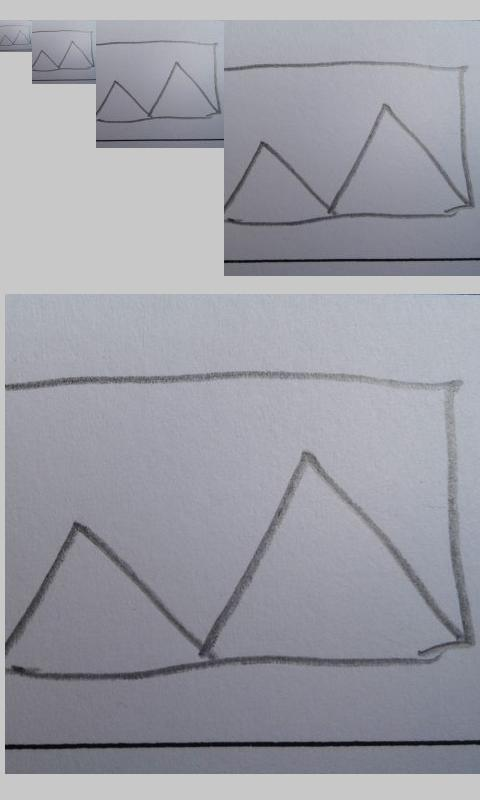image_view: (7, 374, 469, 684), (224, 59, 473, 229), (96, 41, 221, 123), (31, 29, 94, 72), (1, 24, 31, 47)
